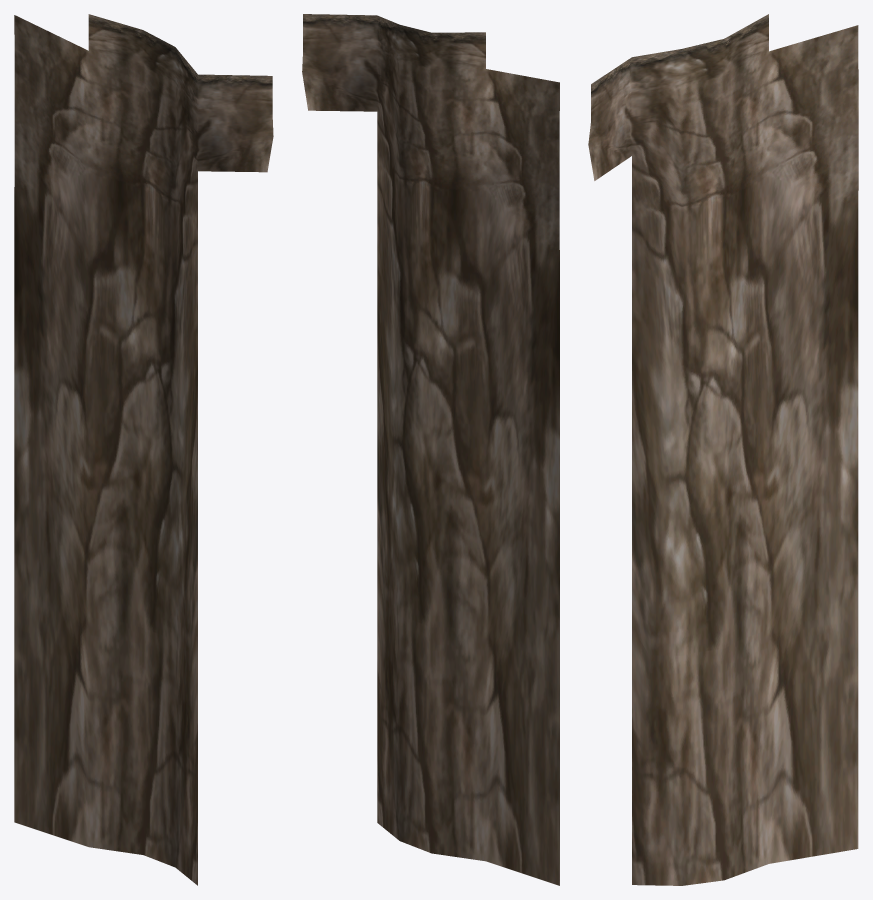
The model's file is OVERHILL_A_01_LINE49.fbx.
The picture shows the model from 3 angles, left to right: view 1: azimuth 30°, elevation 25°; view 2: azimuth 210°, elevation 25°; view 3: azimuth 270°, elevation 25°; orthographic projection. The views are drawn at different scales.
Parts seen in each view (by area): view 1: OVERHILL_A_01_LINE49; view 2: OVERHILL_A_01_LINE49; view 3: OVERHILL_A_01_LINE49.
Boxes of the visible parts, bbox=[...] form: OVERHILL_A_01_LINE49: bbox=[14, 14, 273, 885]; OVERHILL_A_01_LINE49: bbox=[302, 14, 559, 885]; OVERHILL_A_01_LINE49: bbox=[588, 14, 858, 885].
Bounding box in the file's own units: 27815 × 174369 × 50258.
2 materials, 2 textured.
